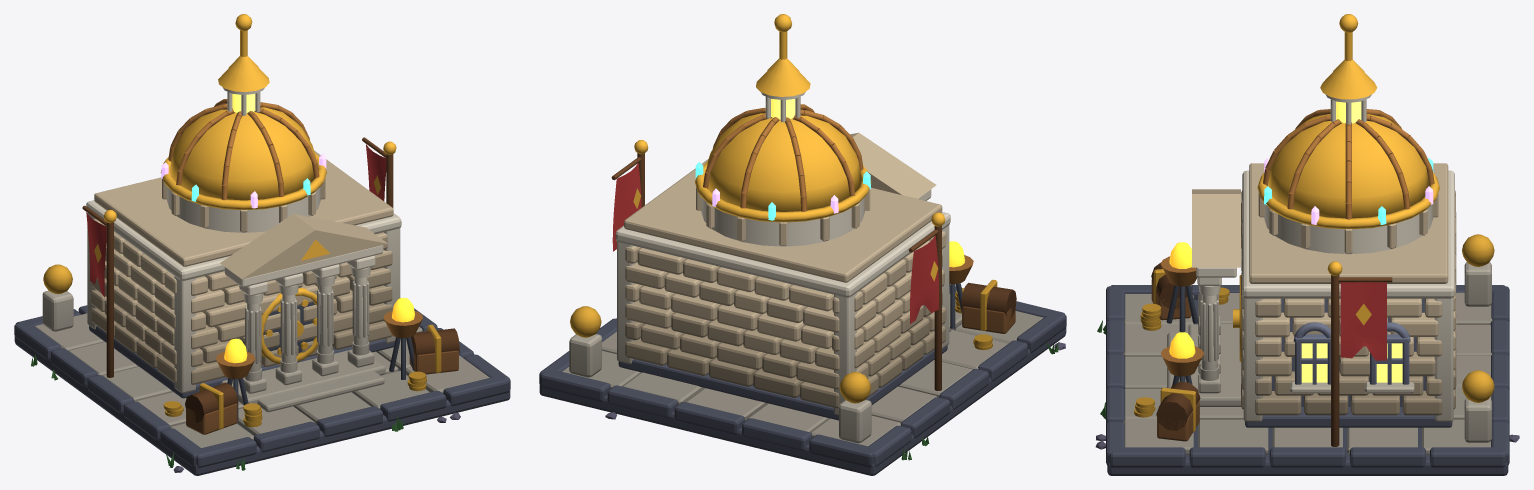
File: treasury.glb
3 renders of one model, left to right at view 1: azimuth 30°, elevation 25°; view 2: azimuth 150°, elevation 25°; view 3: azimuth 270°, elevation 25°, orthographic. The views are drawn at different scales.
Parts seen in each view (by area): view 1: t0_stone_warm, t0_marble, t0_stone_dark, t0_gold, t0_bronze, t0_wood_dark, t1_wood_dark, t1_cloth_red, t0_wood, t0_iron, t2_marble, t2_gold; view 2: t0_stone_warm, t0_marble, t0_stone_dark, t0_gold, t0_bronze, t1_cloth_red, t2_marble, t1_wood_dark, t2_gold, t0_wood_dark, t0_wood; view 3: t0_marble, t0_stone_warm, t0_stone_dark, t0_gold, t0_bronze, t1_cloth_red, t2_marble, t0_window, t1_wood_dark, t0_wood_dark, t2_gold, t0_wood (+3 smaller).
Part boxes in pixels (x1=…): t0_stone_warm: x1=90, y1=150, x2=393, y2=384; t0_marble: x1=35, y1=87, x2=489, y2=447; t0_stone_dark: x1=14, y1=305, x2=510, y2=475; t0_gold: x1=160, y1=14, x2=441, y2=429; t0_bronze: x1=168, y1=99, x2=422, y2=379; t0_wood_dark: x1=185, y1=328, x2=459, y2=422; t1_wood_dark: x1=82, y1=137, x2=393, y2=377; t1_cloth_red: x1=86, y1=144, x2=386, y2=297; t0_wood: x1=186, y1=350, x2=458, y2=434; t0_iron: x1=227, y1=302, x2=413, y2=420; t2_marble: x1=42, y1=290, x2=73, y2=331; t2_gold: x1=43, y1=264, x2=72, y2=294; t0_stone_warm: x1=624, y1=132, x2=946, y2=408; t0_marble: x1=562, y1=92, x2=1043, y2=446; t0_stone_dark: x1=539, y1=285, x2=1066, y2=475; t0_gold: x1=695, y1=14, x2=997, y2=350; t0_bronze: x1=703, y1=104, x2=973, y2=284; t1_cloth_red: x1=612, y1=163, x2=938, y2=323; t2_marble: x1=569, y1=334, x2=871, y2=443; t1_wood_dark: x1=611, y1=153, x2=941, y2=390; t2_gold: x1=570, y1=306, x2=870, y2=403; t0_wood_dark: x1=961, y1=282, x2=1016, y2=320; t0_wood: x1=962, y1=306, x2=1015, y2=333; t0_marble: x1=1123, y1=94, x2=1492, y2=454; t0_stone_warm: x1=1192, y1=163, x2=1456, y2=415; t0_stone_dark: x1=1106, y1=285, x2=1509, y2=475; t0_gold: x1=1134, y1=14, x2=1439, y2=432; t0_bronze: x1=1160, y1=109, x2=1434, y2=376; t1_cloth_red: x1=1340, y1=282, x2=1386, y2=360; t2_marble: x1=1464, y1=262, x2=1491, y2=442; t0_window: x1=1301, y1=101, x2=1402, y2=382; t1_wood_dark: x1=1331, y1=275, x2=1392, y2=446; t0_wood_dark: x1=1151, y1=262, x2=1200, y2=430; t2_gold: x1=1462, y1=234, x2=1494, y2=402; t0_wood: x1=1151, y1=279, x2=1199, y2=441.
Bounding box in the file's own units: 3.04 × 3.07 × 3.11.
